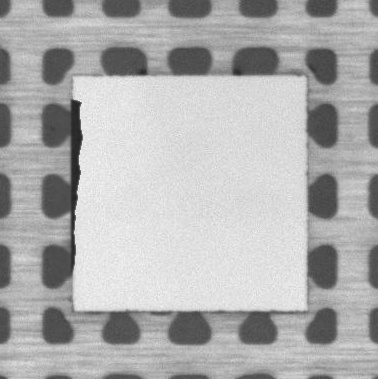DIE_BROKEN: (69, 96, 85, 277)
